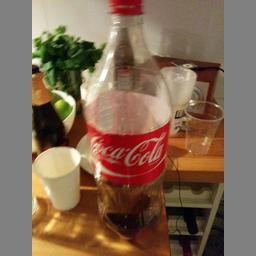soda: (82, 0, 172, 239)
